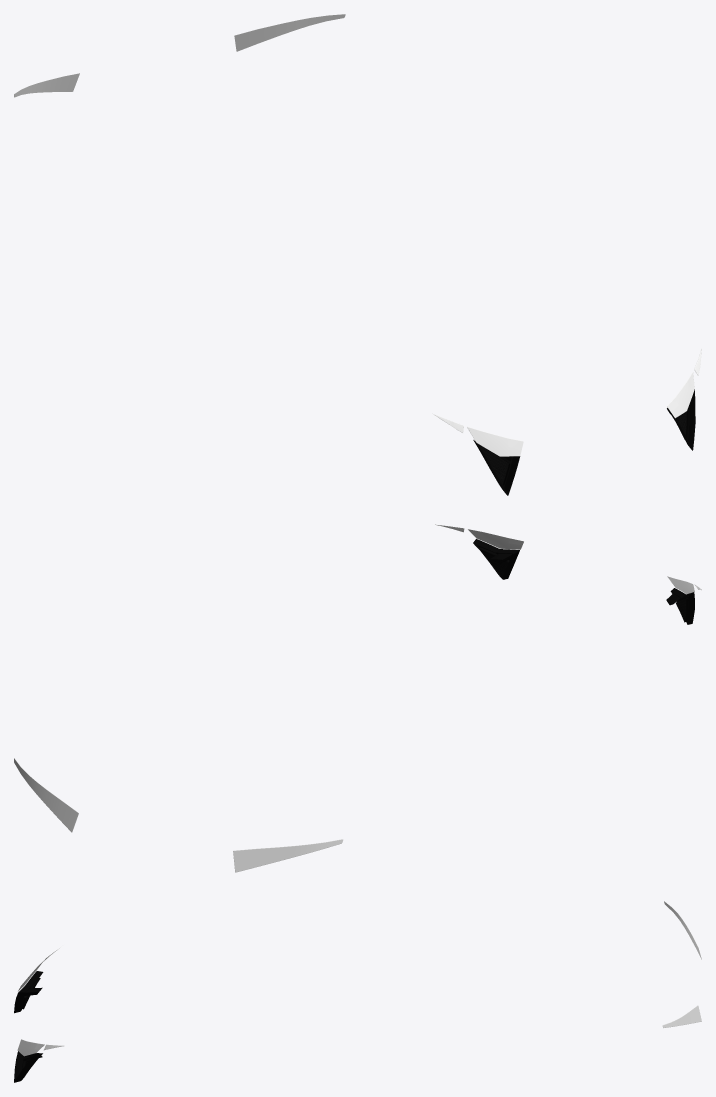
Rendered from car parts.fbx.
3 views of the same model, one above another, from view 1: azimuth 30°, elevation 25°; view 2: azimuth 150°, elevation 25°; view 3: azimuth 270°, elevation 25° (orthographic). The views are drawn at different scales.
Visible parts, largest first — view 1: car_glass.001, car_glass.002, car_glass.003, car_glass.004; view 2: car_glass.002, car_glass.004, car_glass.003, car_glass.001; view 3: car_glass.002, car_glass.001, car_glass.003.
Boxes of the visible parts, x1,y1,x2,y2 form: car_glass.001: [432, 413, 523, 495]; car_glass.002: [667, 348, 701, 450]; car_glass.003: [234, 14, 345, 51]; car_glass.004: [14, 73, 79, 97]; car_glass.002: [433, 524, 523, 579]; car_glass.004: [233, 839, 343, 872]; car_glass.003: [14, 758, 78, 832]; car_glass.001: [666, 576, 701, 624]; car_glass.002: [14, 1039, 64, 1082]; car_glass.001: [14, 945, 63, 1013]; car_glass.003: [662, 1005, 701, 1027].
Bounding box in the file's own units: 193 × 61.65 × 451.
